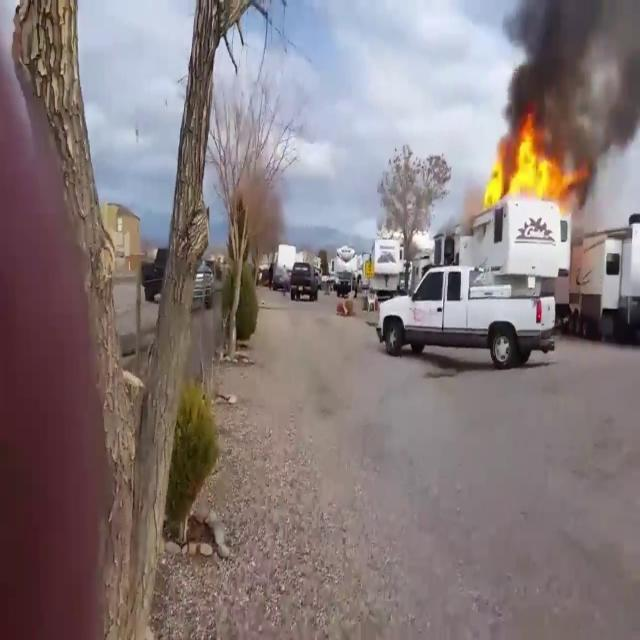Fire: (483, 120, 573, 206)
Smoke: (493, 0, 640, 167)
